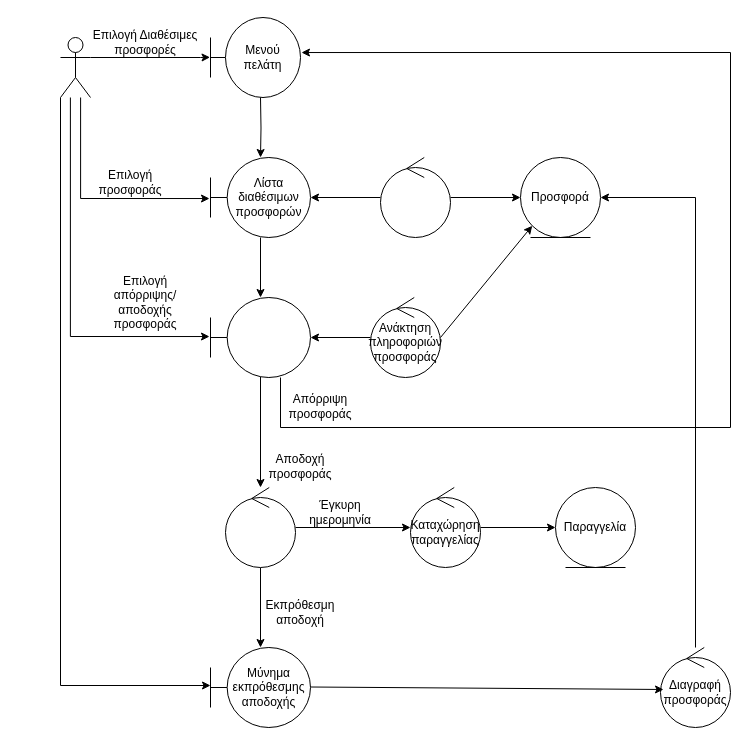
Image size: 756x745. Some labels were removed from this diagram. Each missing label, with the centre of its shape:
"Έλεγχος ισχύος προσφοράς" belongs at pixel 260 527.
"Ανάκτηση λίστας προσφορών" belongs at pixel 415 197.
"Οθόνη πληροφοριών προσφοράς" belongs at pixel 260 337.
"ΤΜΗΜΑ ΠΑΡΑΓΩΓΗΣ" belongs at pixel 75 67.
